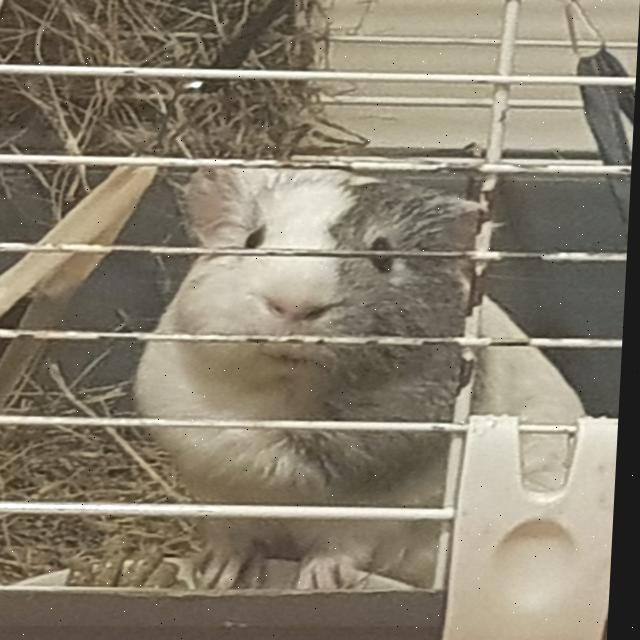guinea pig: (126, 158, 606, 592)
